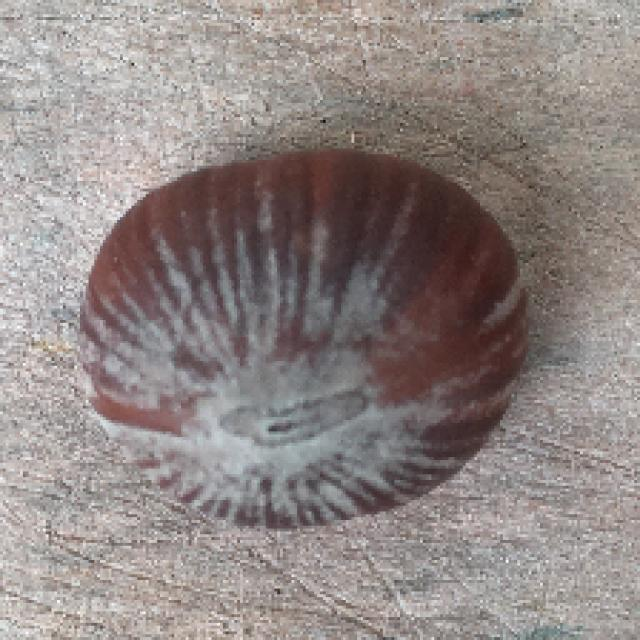qualityHazelnut: (70, 157, 534, 529)
